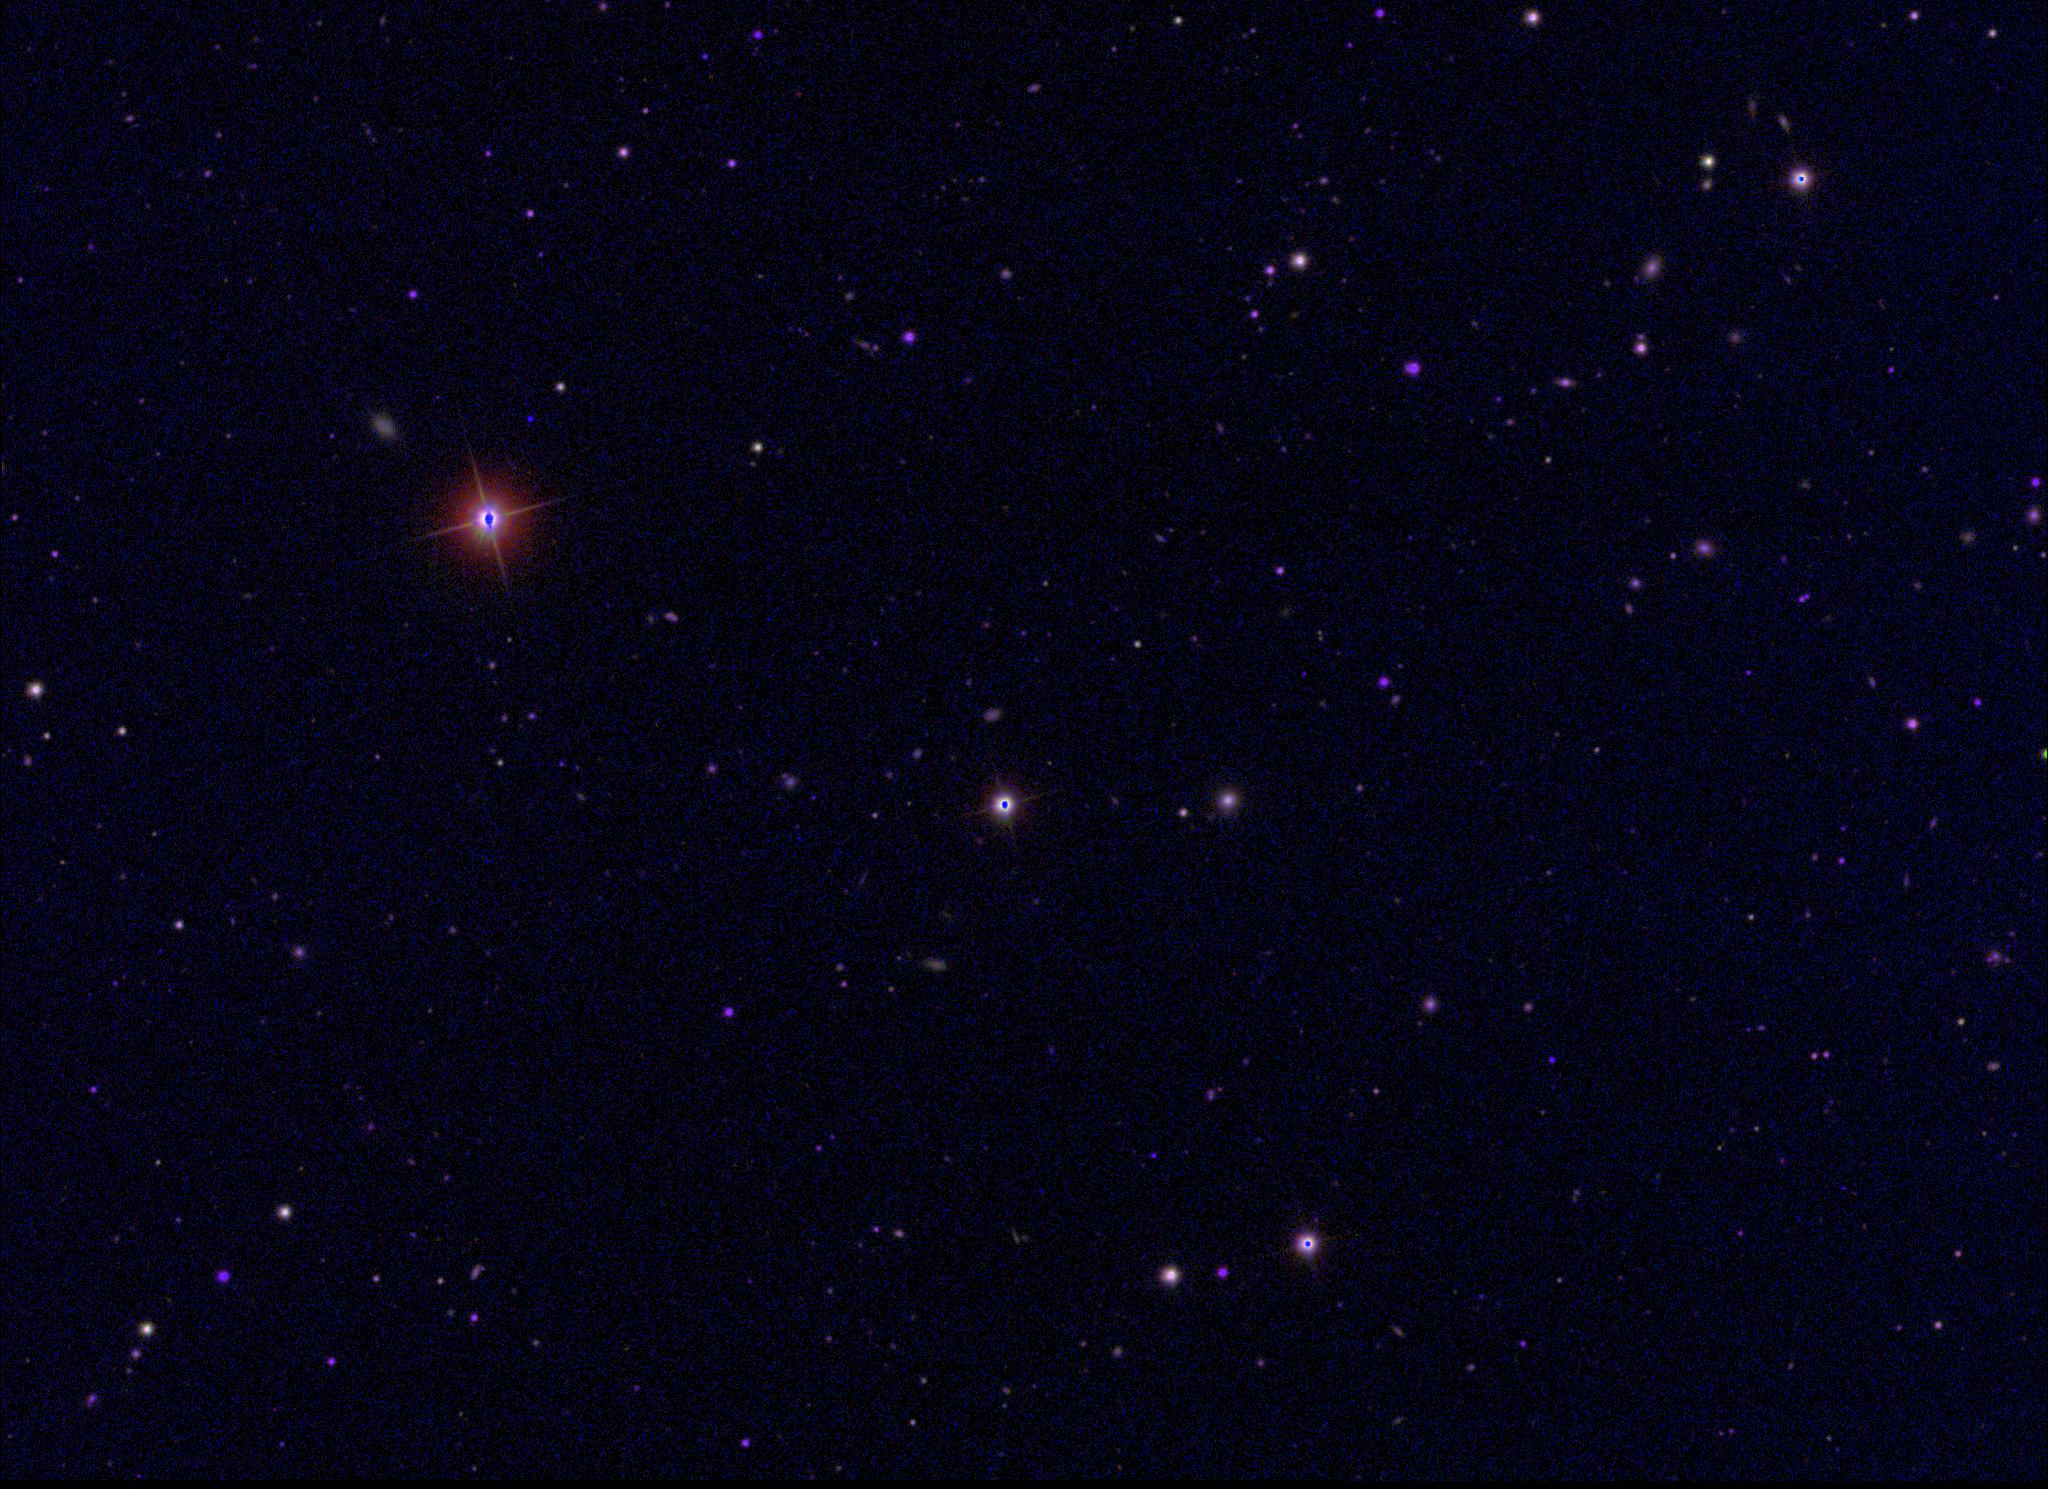L: (525, 407, 537, 422)
